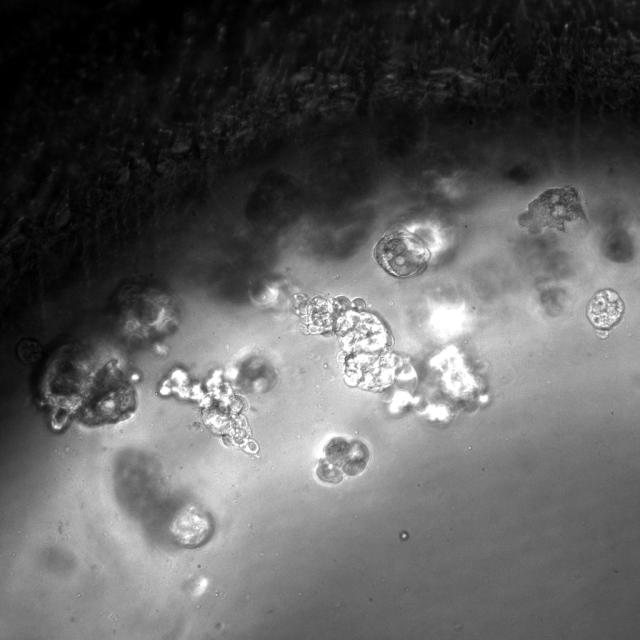organoid: (291, 293, 487, 421), (37, 279, 179, 431), (158, 352, 276, 456), (112, 448, 218, 548), (519, 186, 585, 234), (374, 225, 430, 277), (316, 436, 369, 484), (586, 289, 624, 339)
